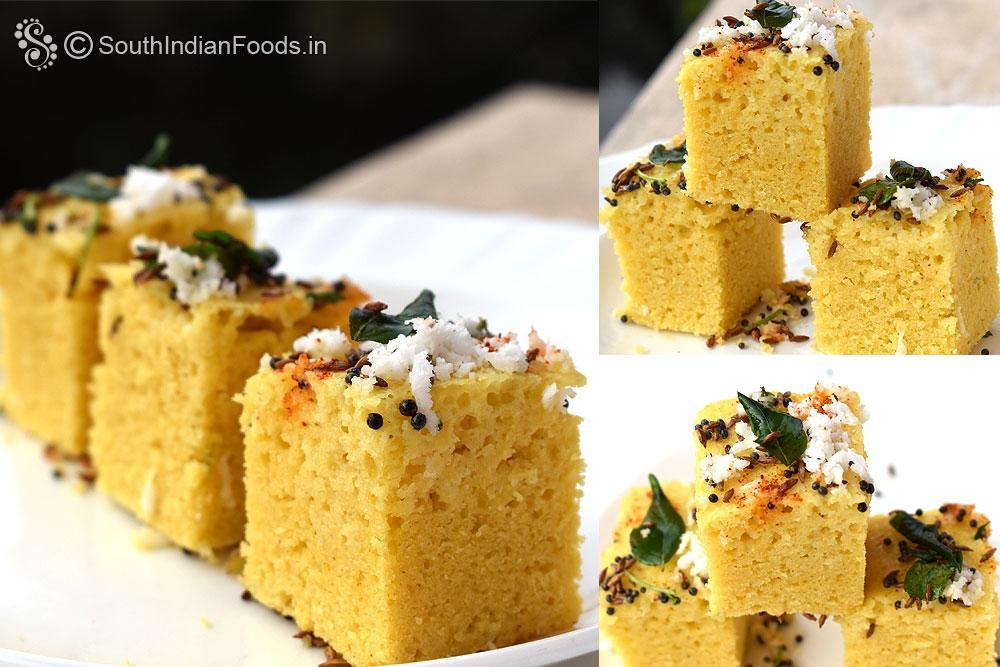dhokla: (16, 167, 572, 632), (622, 5, 996, 352), (610, 381, 986, 667)
